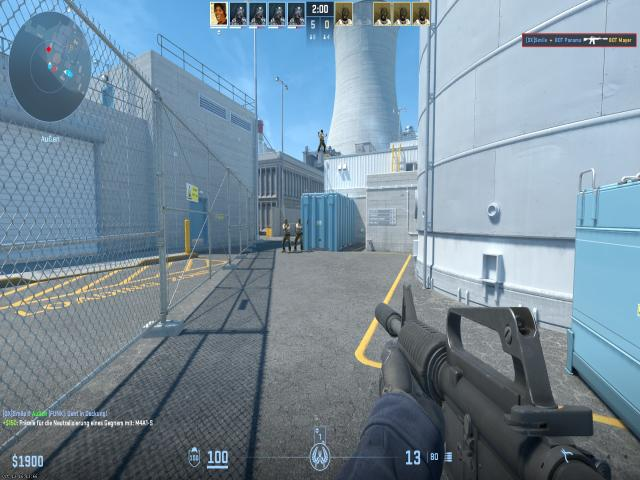T: (283, 218, 291, 252), (295, 218, 302, 250), (318, 129, 325, 155)
T-Head: (284, 219, 288, 225), (320, 130, 324, 134), (298, 219, 301, 224)
